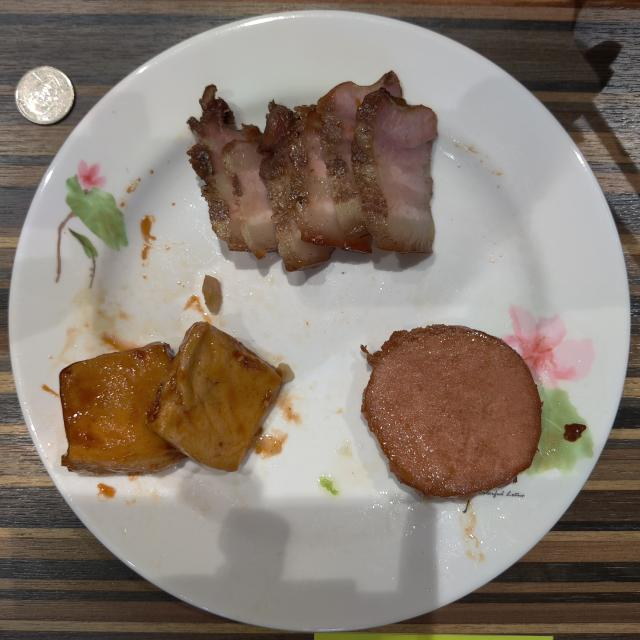Spam: (361, 325, 542, 499)
coin: (15, 66, 74, 125)
creamy tofu: (60, 321, 282, 475)
red grilled pork: (190, 72, 438, 271)
